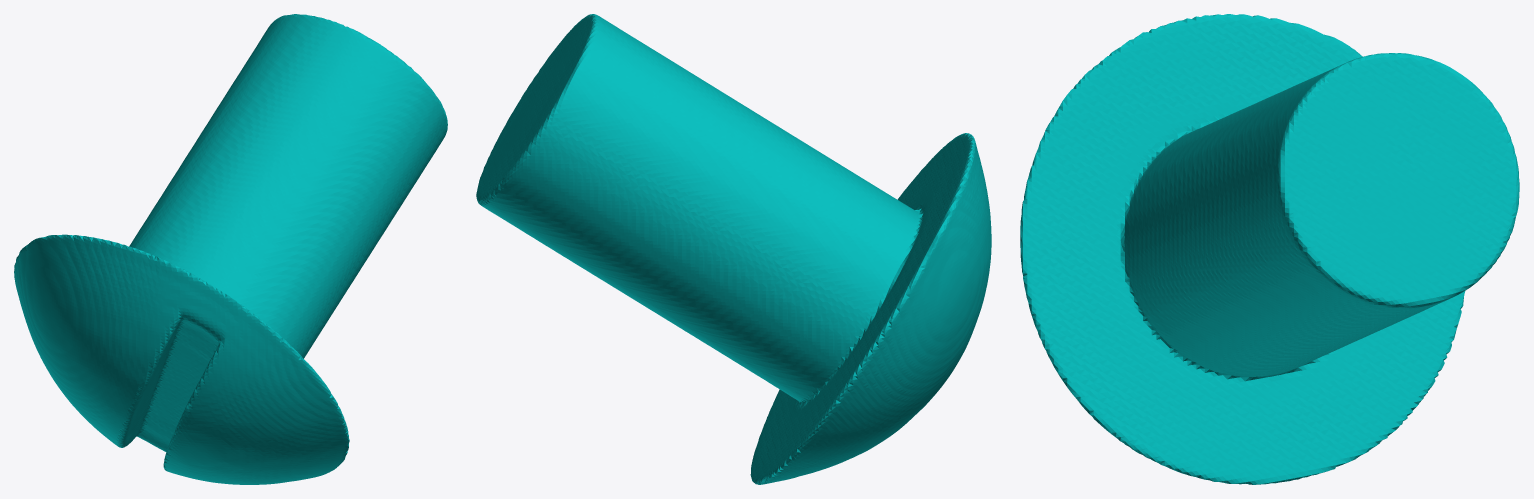
3 views of the same model, side by side, from view 1: azimuth 30°, elevation 25°; view 2: azimuth 150°, elevation 25°; view 3: azimuth 270°, elevation 25° (orthographic). The views are drawn at different scales.
Size of the model in its own units: 1.04 by 0.968 by 0.882.
